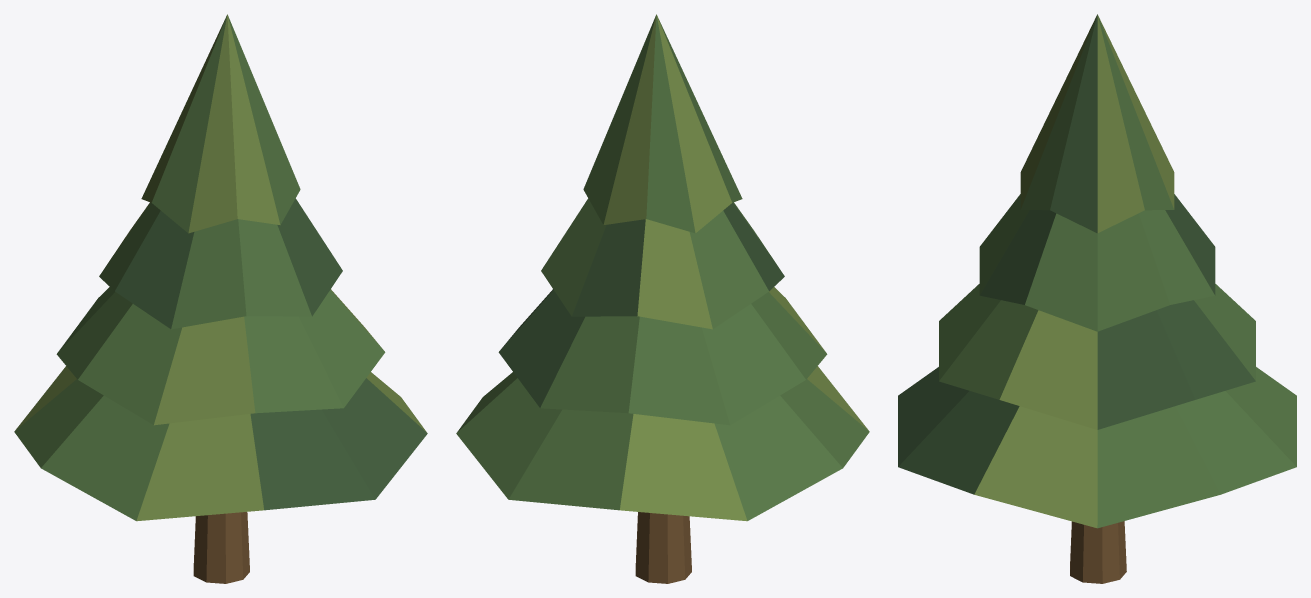
Rendered from BP_Pine_Wide.fbx.
3 renders of one model, left to right at view 1: azimuth 30°, elevation 25°; view 2: azimuth 150°, elevation 25°; view 3: azimuth 270°, elevation 25°, orthographic.
Parts seen in each view (by area): view 1: BP_Pine_Wide; view 2: BP_Pine_Wide; view 3: BP_Pine_Wide.
Boxes of the visible parts, box(x1,y1,x2,y2) form: BP_Pine_Wide: box(14, 14, 427, 583); BP_Pine_Wide: box(456, 14, 869, 583); BP_Pine_Wide: box(898, 14, 1296, 583).
Size of the model in its own units: 250 by 369 by 238.
